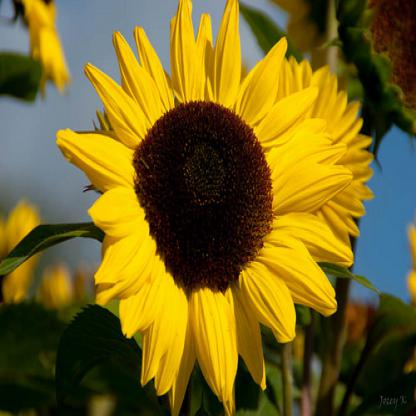SUN FLOWER: (66, 7, 383, 401)
